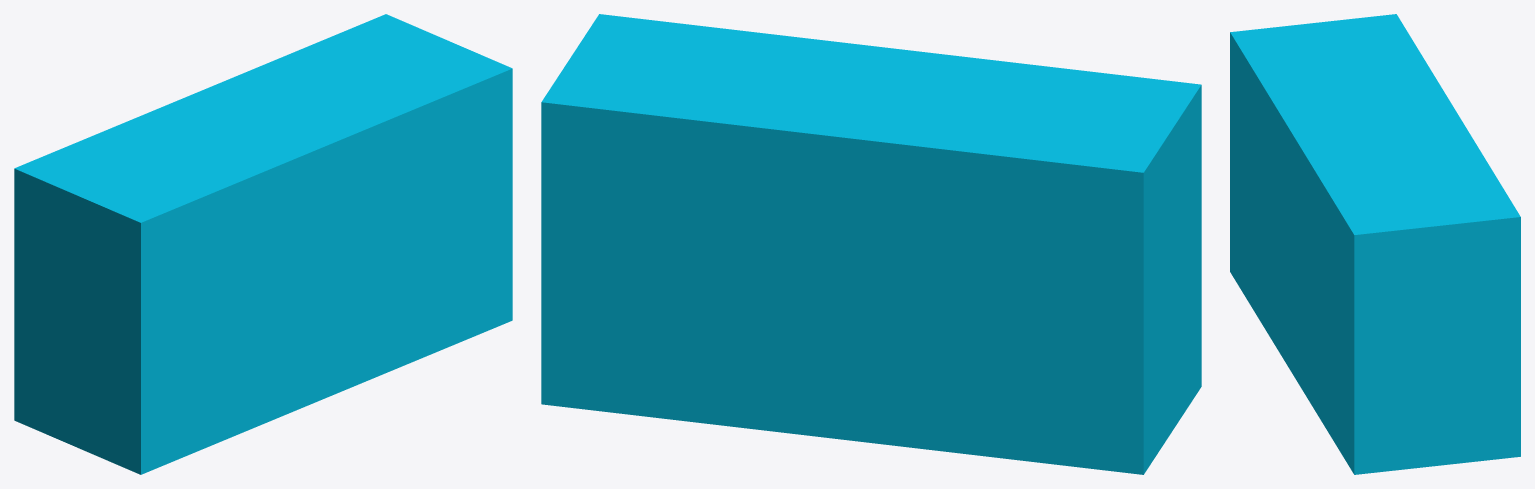
The model's file is RC-CI-hinge_LINK_mesh.dae.
The picture shows the model from 3 angles, left to right: view 1: azimuth 30°, elevation 25°; view 2: azimuth 150°, elevation 25°; view 3: azimuth 270°, elevation 25°; orthographic projection. The views are drawn at different scales.
Parts seen in each view (by area): view 1: RC-CI-hinge_LINK; view 2: RC-CI-hinge_LINK; view 3: RC-CI-hinge_LINK.
Boxes of the visible parts, box(x1,y1,x2,y2) form: RC-CI-hinge_LINK: box(14, 14, 512, 474); RC-CI-hinge_LINK: box(541, 14, 1201, 474); RC-CI-hinge_LINK: box(1230, 14, 1520, 474).
Bounding box in the file's own units: 0.0791 × 0.04 × 0.044.
